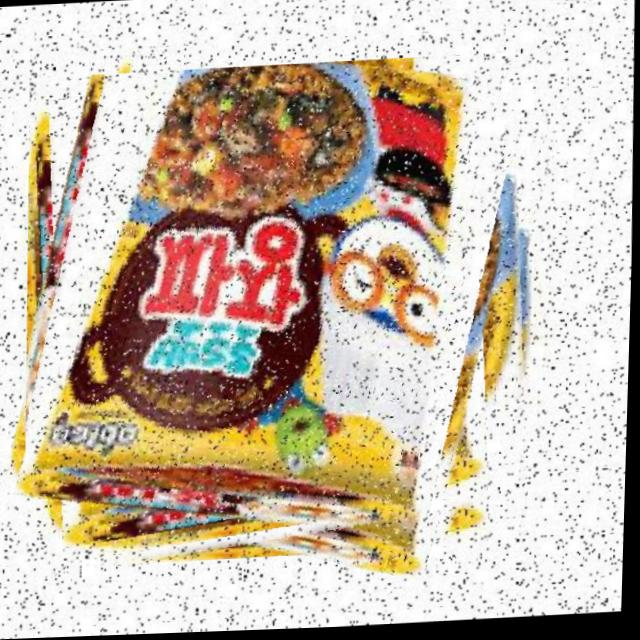Miscellaneous: (18, 53, 542, 580)
